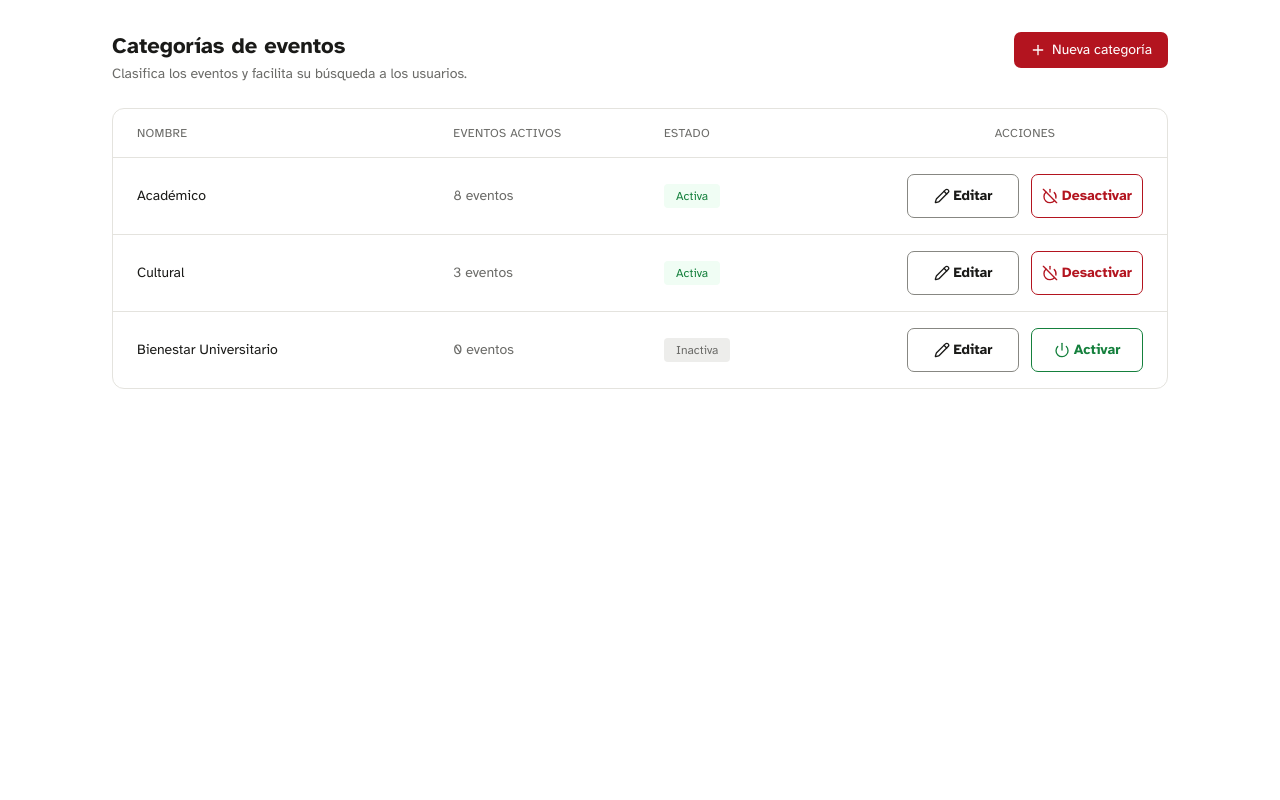
it: GestionCategorias (HU-04) › muestra el error al editar con el nombre de otra categoría
The image size is (1280, 800).
Expected: the column heading "Cultural" is shown, left=113, top=234, right=429, bottom=312
Click the button with aria-label "Editar categoría Cultural". click: coordinates (963, 273)
box: left=907, top=251, right=1019, bottom=295
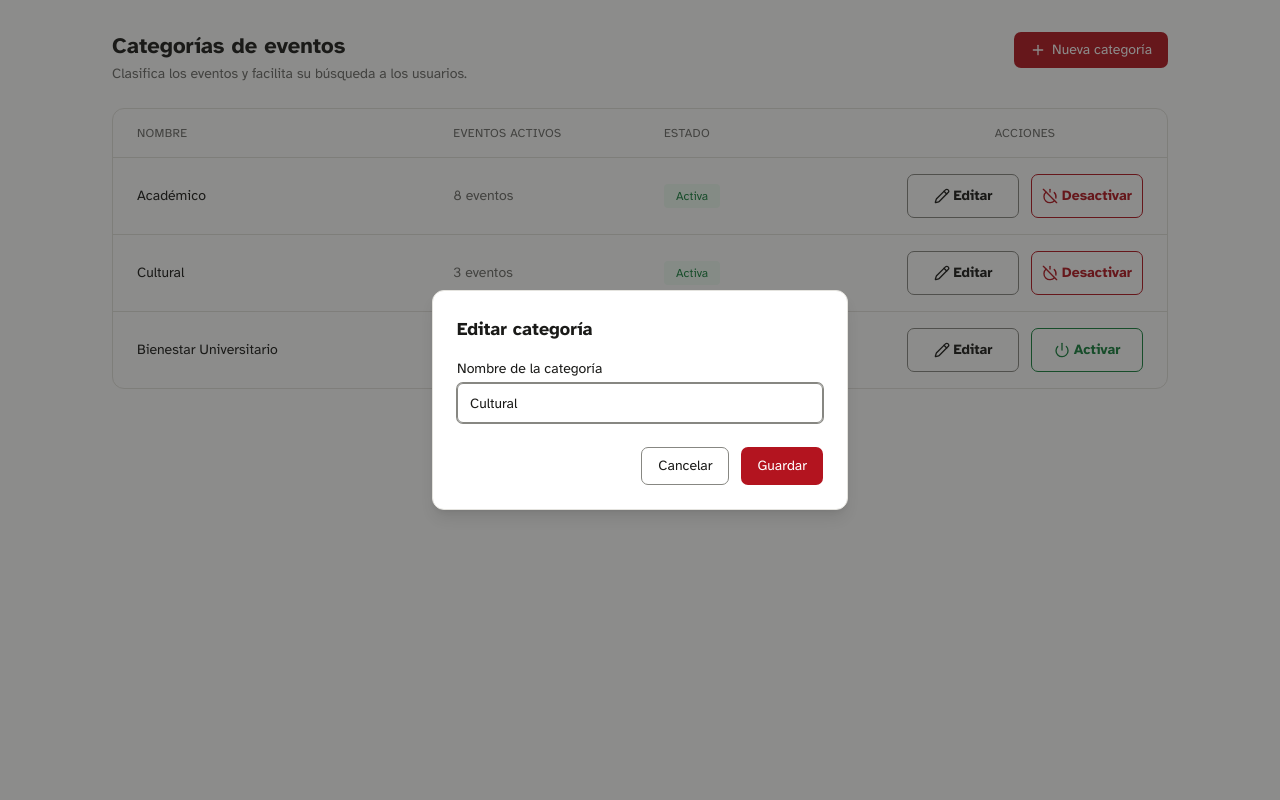
Replace the text in the field labelled "Nombre de la categoría" with "académico". click: coordinates (640, 403)
box: left=457, top=383, right=823, bottom=423
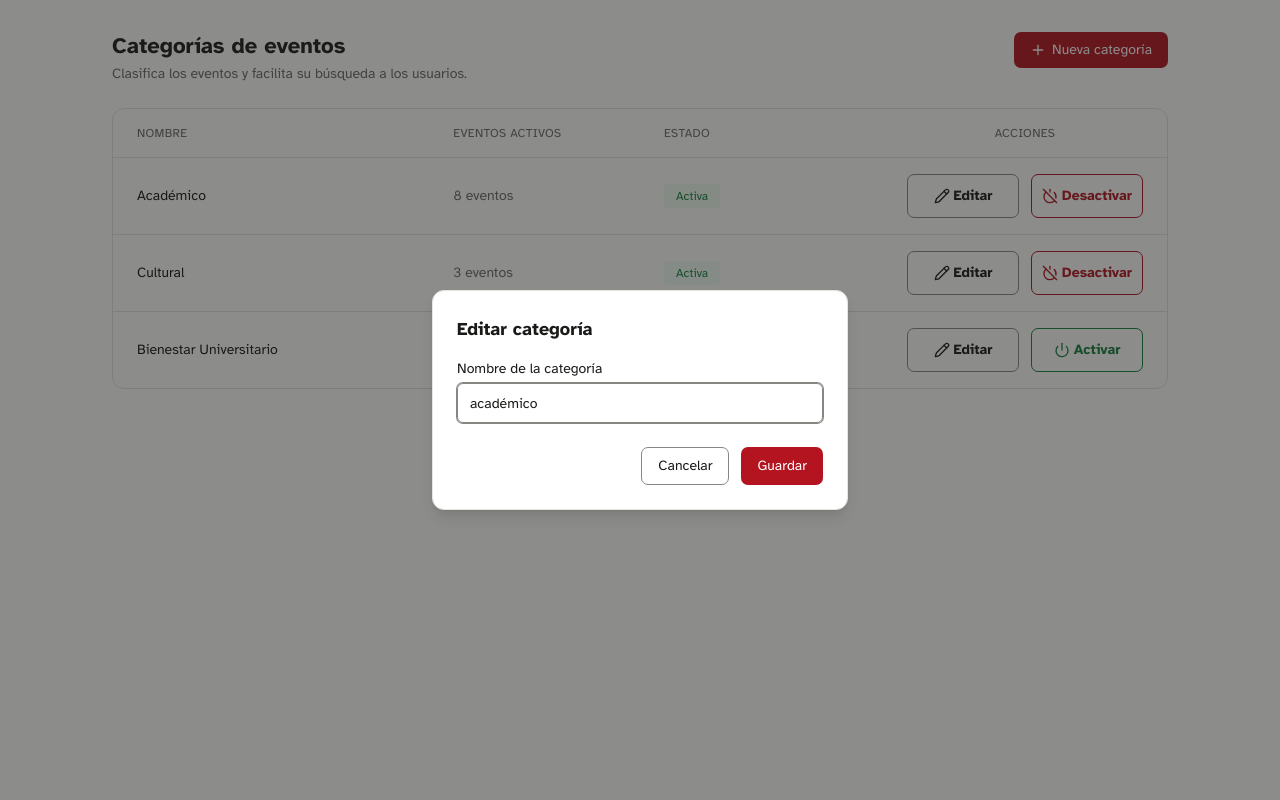
Click the button "Guardar". click: coordinates (782, 466)
box: left=741, top=447, right=823, bottom=485
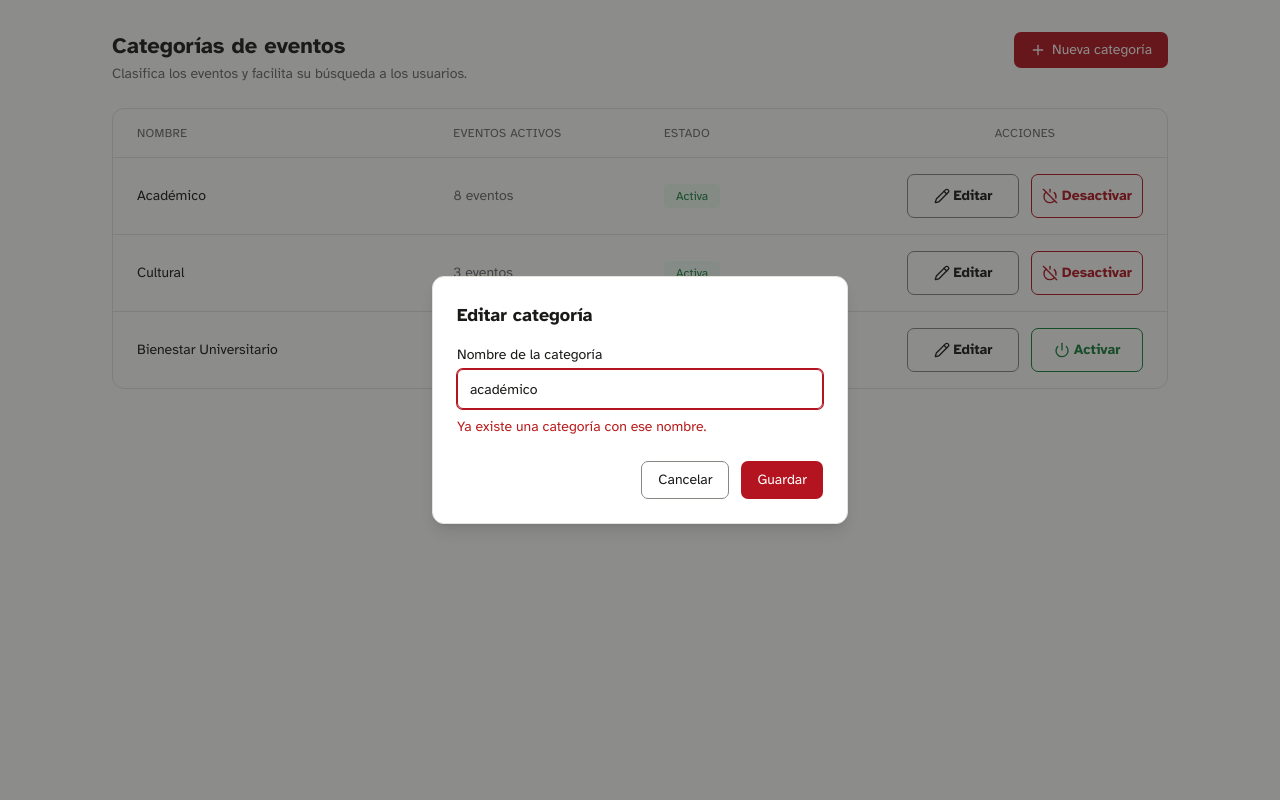
Result: the message reads "Ya existe una categoría con ese nombre." at left=457, top=418, right=706, bottom=435
